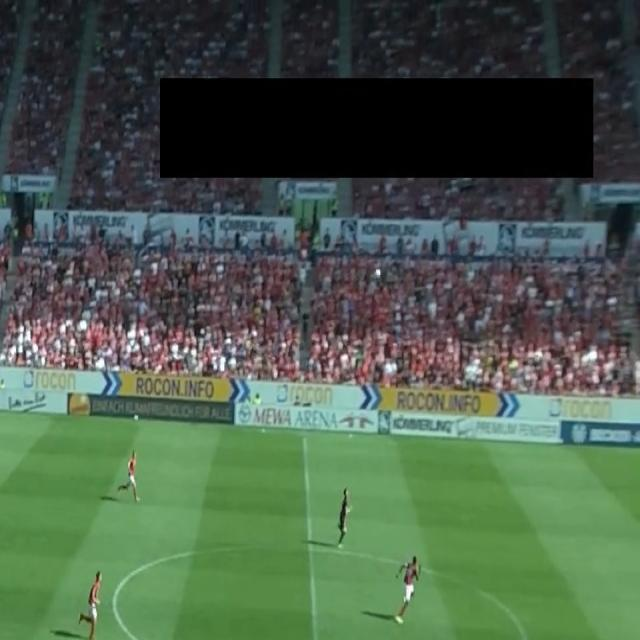ball: (375, 267, 381, 277)
